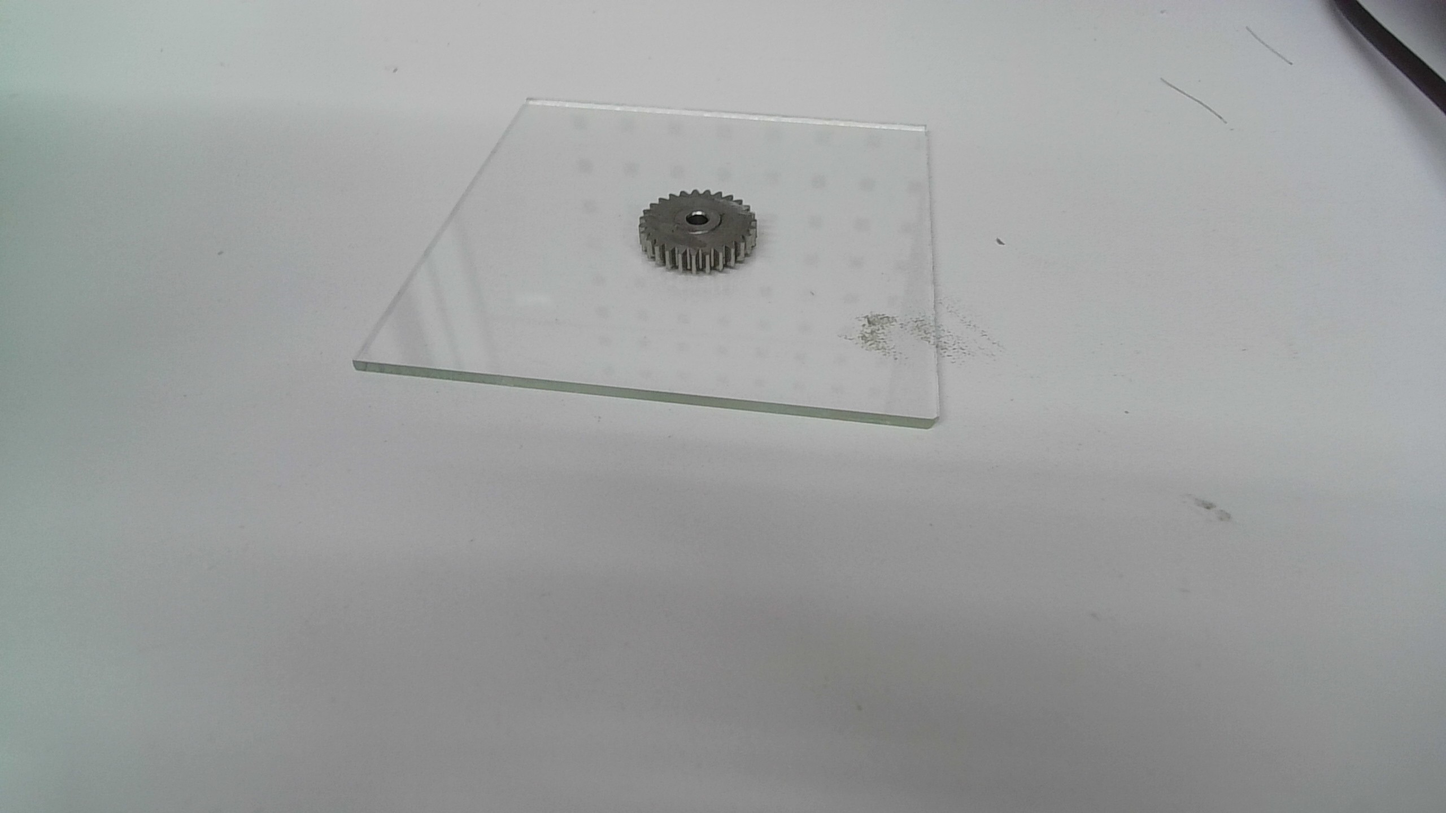gear: (637, 186, 760, 273)
